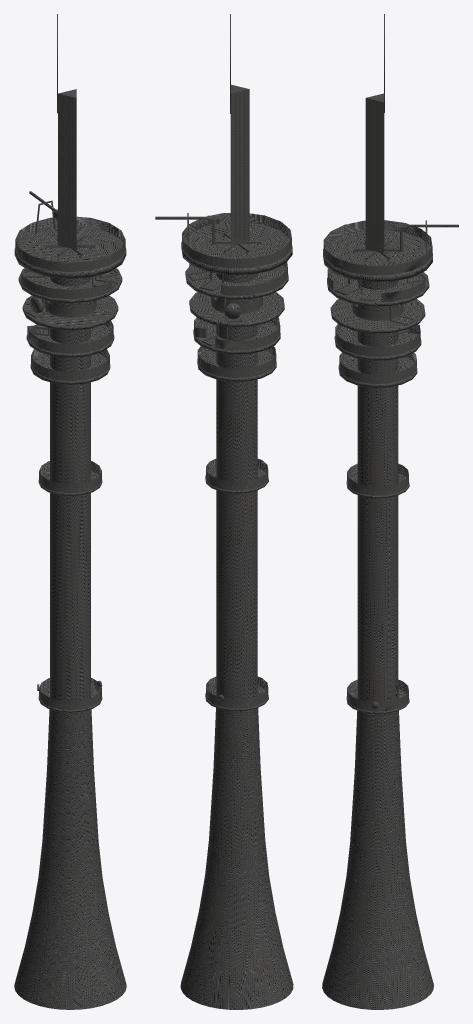
The model's file is Paaskyvuori.gltf.
The picture shows the model from 3 angles, left to right: view 1: azimuth 90°, elevation 25°; view 2: azimuth 150°, elevation 25°; view 3: azimuth 330°, elevation 25°; orthographic projection.
Visible parts, largest first — view 1: Paasky, Alpha; view 2: Paasky, Alpha; view 3: Paasky, Alpha.
Part boxes in pixels (left/top/right/bottom): Paasky: left=14, top=14, right=126, bottom=1009; Alpha: left=15, top=89, right=125, bottom=710; Paasky: left=155, top=14, right=293, bottom=1009; Alpha: left=182, top=84, right=291, bottom=708; Paasky: left=322, top=14, right=458, bottom=1009; Alpha: left=323, top=93, right=432, bottom=711.
Bounding box in the file's own units: 15.97 × 135 × 14.13.
